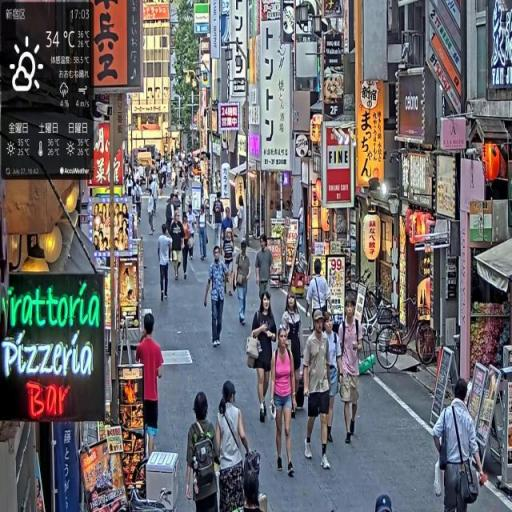person: (433, 378, 487, 511), (217, 378, 255, 512), (303, 309, 333, 473), (186, 391, 223, 512), (271, 326, 300, 479), (136, 312, 165, 460), (249, 293, 280, 426), (340, 296, 363, 449), (204, 243, 232, 350), (282, 291, 305, 414), (232, 241, 254, 332), (306, 261, 331, 338), (257, 235, 276, 309), (157, 220, 173, 304), (170, 211, 186, 286), (198, 202, 209, 261)
